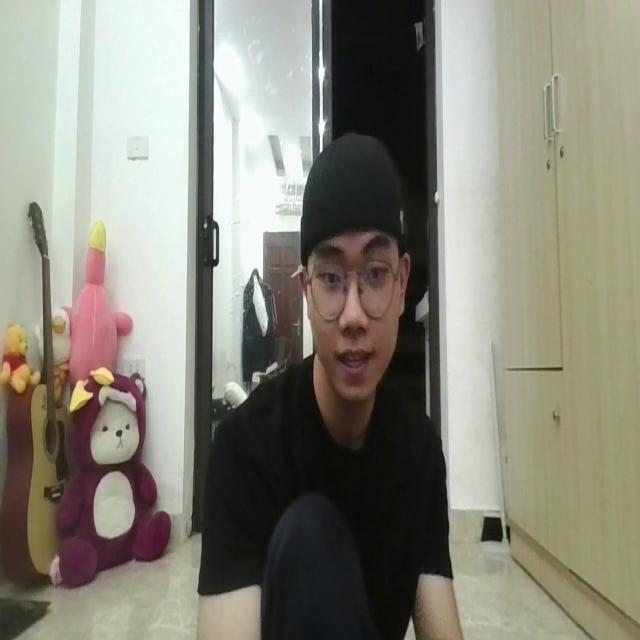student: (203, 128, 464, 640)
